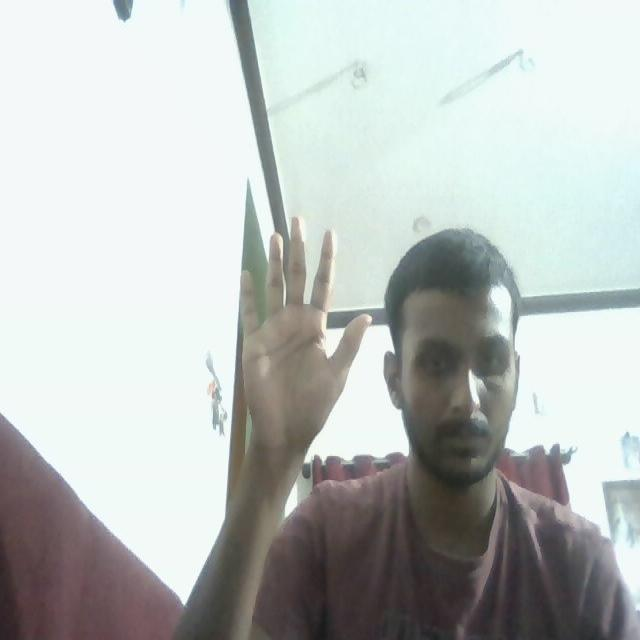hello-yes-no-iloveyou-please: (238, 218, 372, 447)
